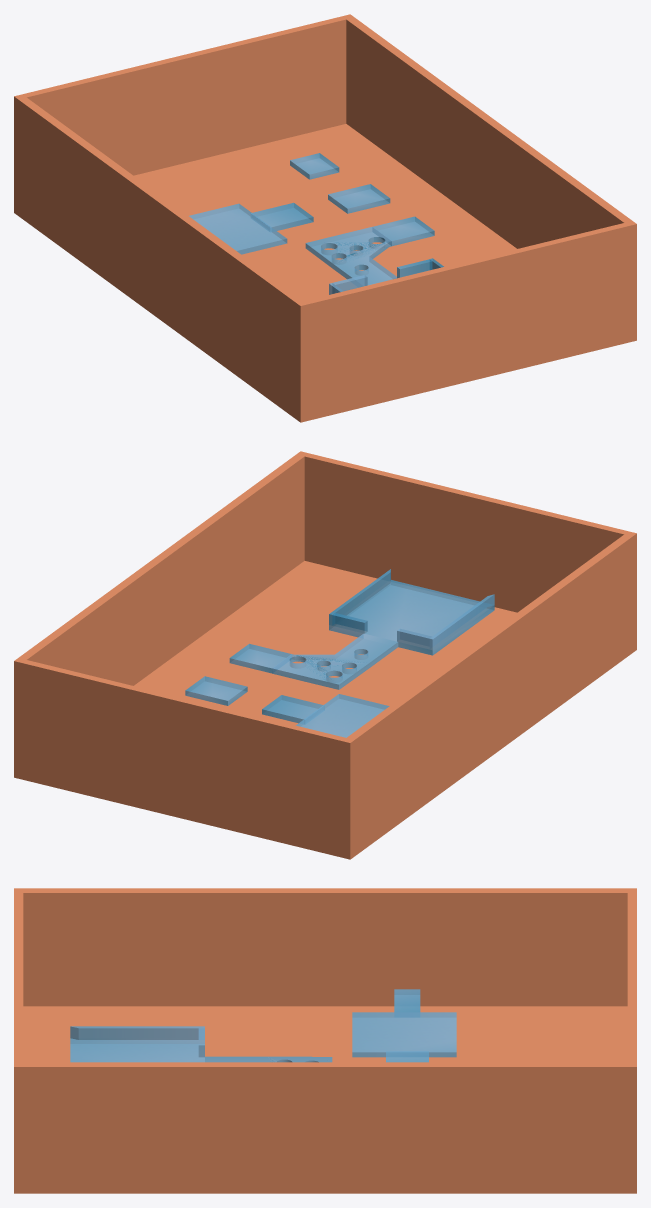
File: Stage7.fbx
3 renders of one model, top to bottom at view 1: azimuth 30°, elevation 25°; view 2: azimuth 150°, elevation 25°; view 3: azimuth 270°, elevation 25°, orthographic. The views are drawn at different scales.
Parts seen in each view (by area): view 1: Box001, Box002, Box008, Box004, Box003, Box007, Box006; view 2: Box001, Box002, Box008, Box004, Box003, Box007; view 3: Box001, Box002, Box008, Box009, Box007.
Part boxes in pixels (box(x1,y1,x2,y2)): Box001: box(14, 14, 636, 422); Box002: box(305, 227, 443, 294); Box008: box(189, 203, 287, 254); Box004: box(328, 184, 390, 213); Box003: box(372, 216, 434, 246); Box007: box(251, 202, 313, 231); Box006: box(290, 153, 339, 179); Box001: box(14, 451, 636, 859); Box002: box(272, 569, 494, 689); Box008: box(296, 694, 389, 737); Box004: box(185, 676, 247, 705); Box003: box(229, 643, 291, 673); Box007: box(262, 695, 324, 724); Box001: box(14, 888, 636, 1193); Box002: box(70, 1026, 332, 1062); Box008: box(352, 1012, 456, 1057); Box009: box(394, 989, 420, 1012); Box007: box(386, 1051, 428, 1062).
Bounding box in the file's own units: 13018 × 19212 × 4311.
